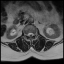CCS_normal: (29, 30, 31, 38)
LFS_normal: (33, 31, 35, 37)
LLS_normal: (31, 30, 33, 38)
RFS_normal: (25, 31, 27, 37)
RLS_normal: (27, 31, 29, 37)
